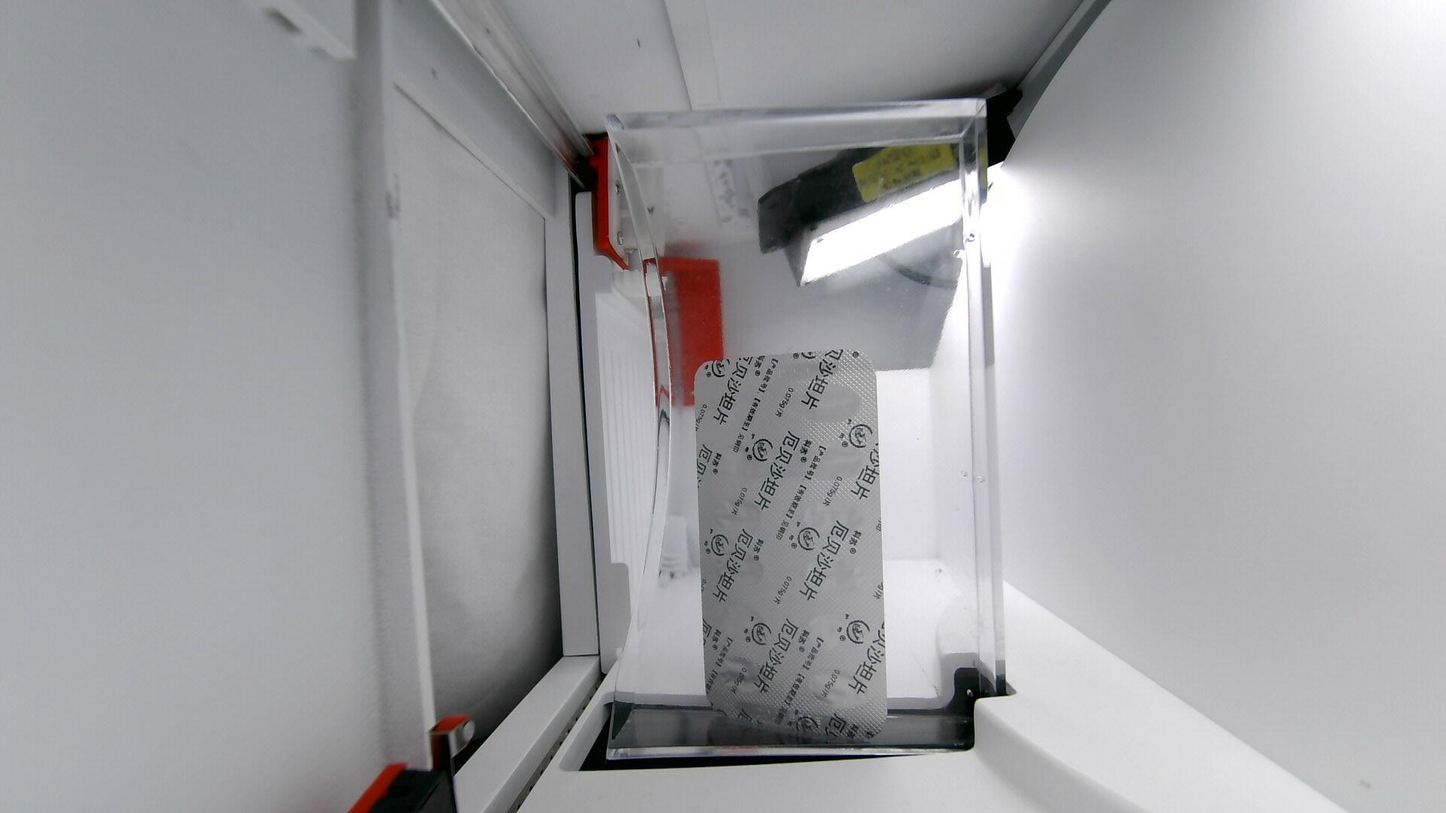Pill Back: (701, 373, 770, 426), (783, 379, 864, 422), (695, 490, 763, 540), (700, 443, 777, 483), (798, 494, 864, 540), (791, 440, 865, 481), (803, 663, 872, 704), (706, 660, 773, 701), (799, 610, 865, 650), (712, 609, 780, 647), (798, 555, 871, 589), (711, 553, 776, 591)
